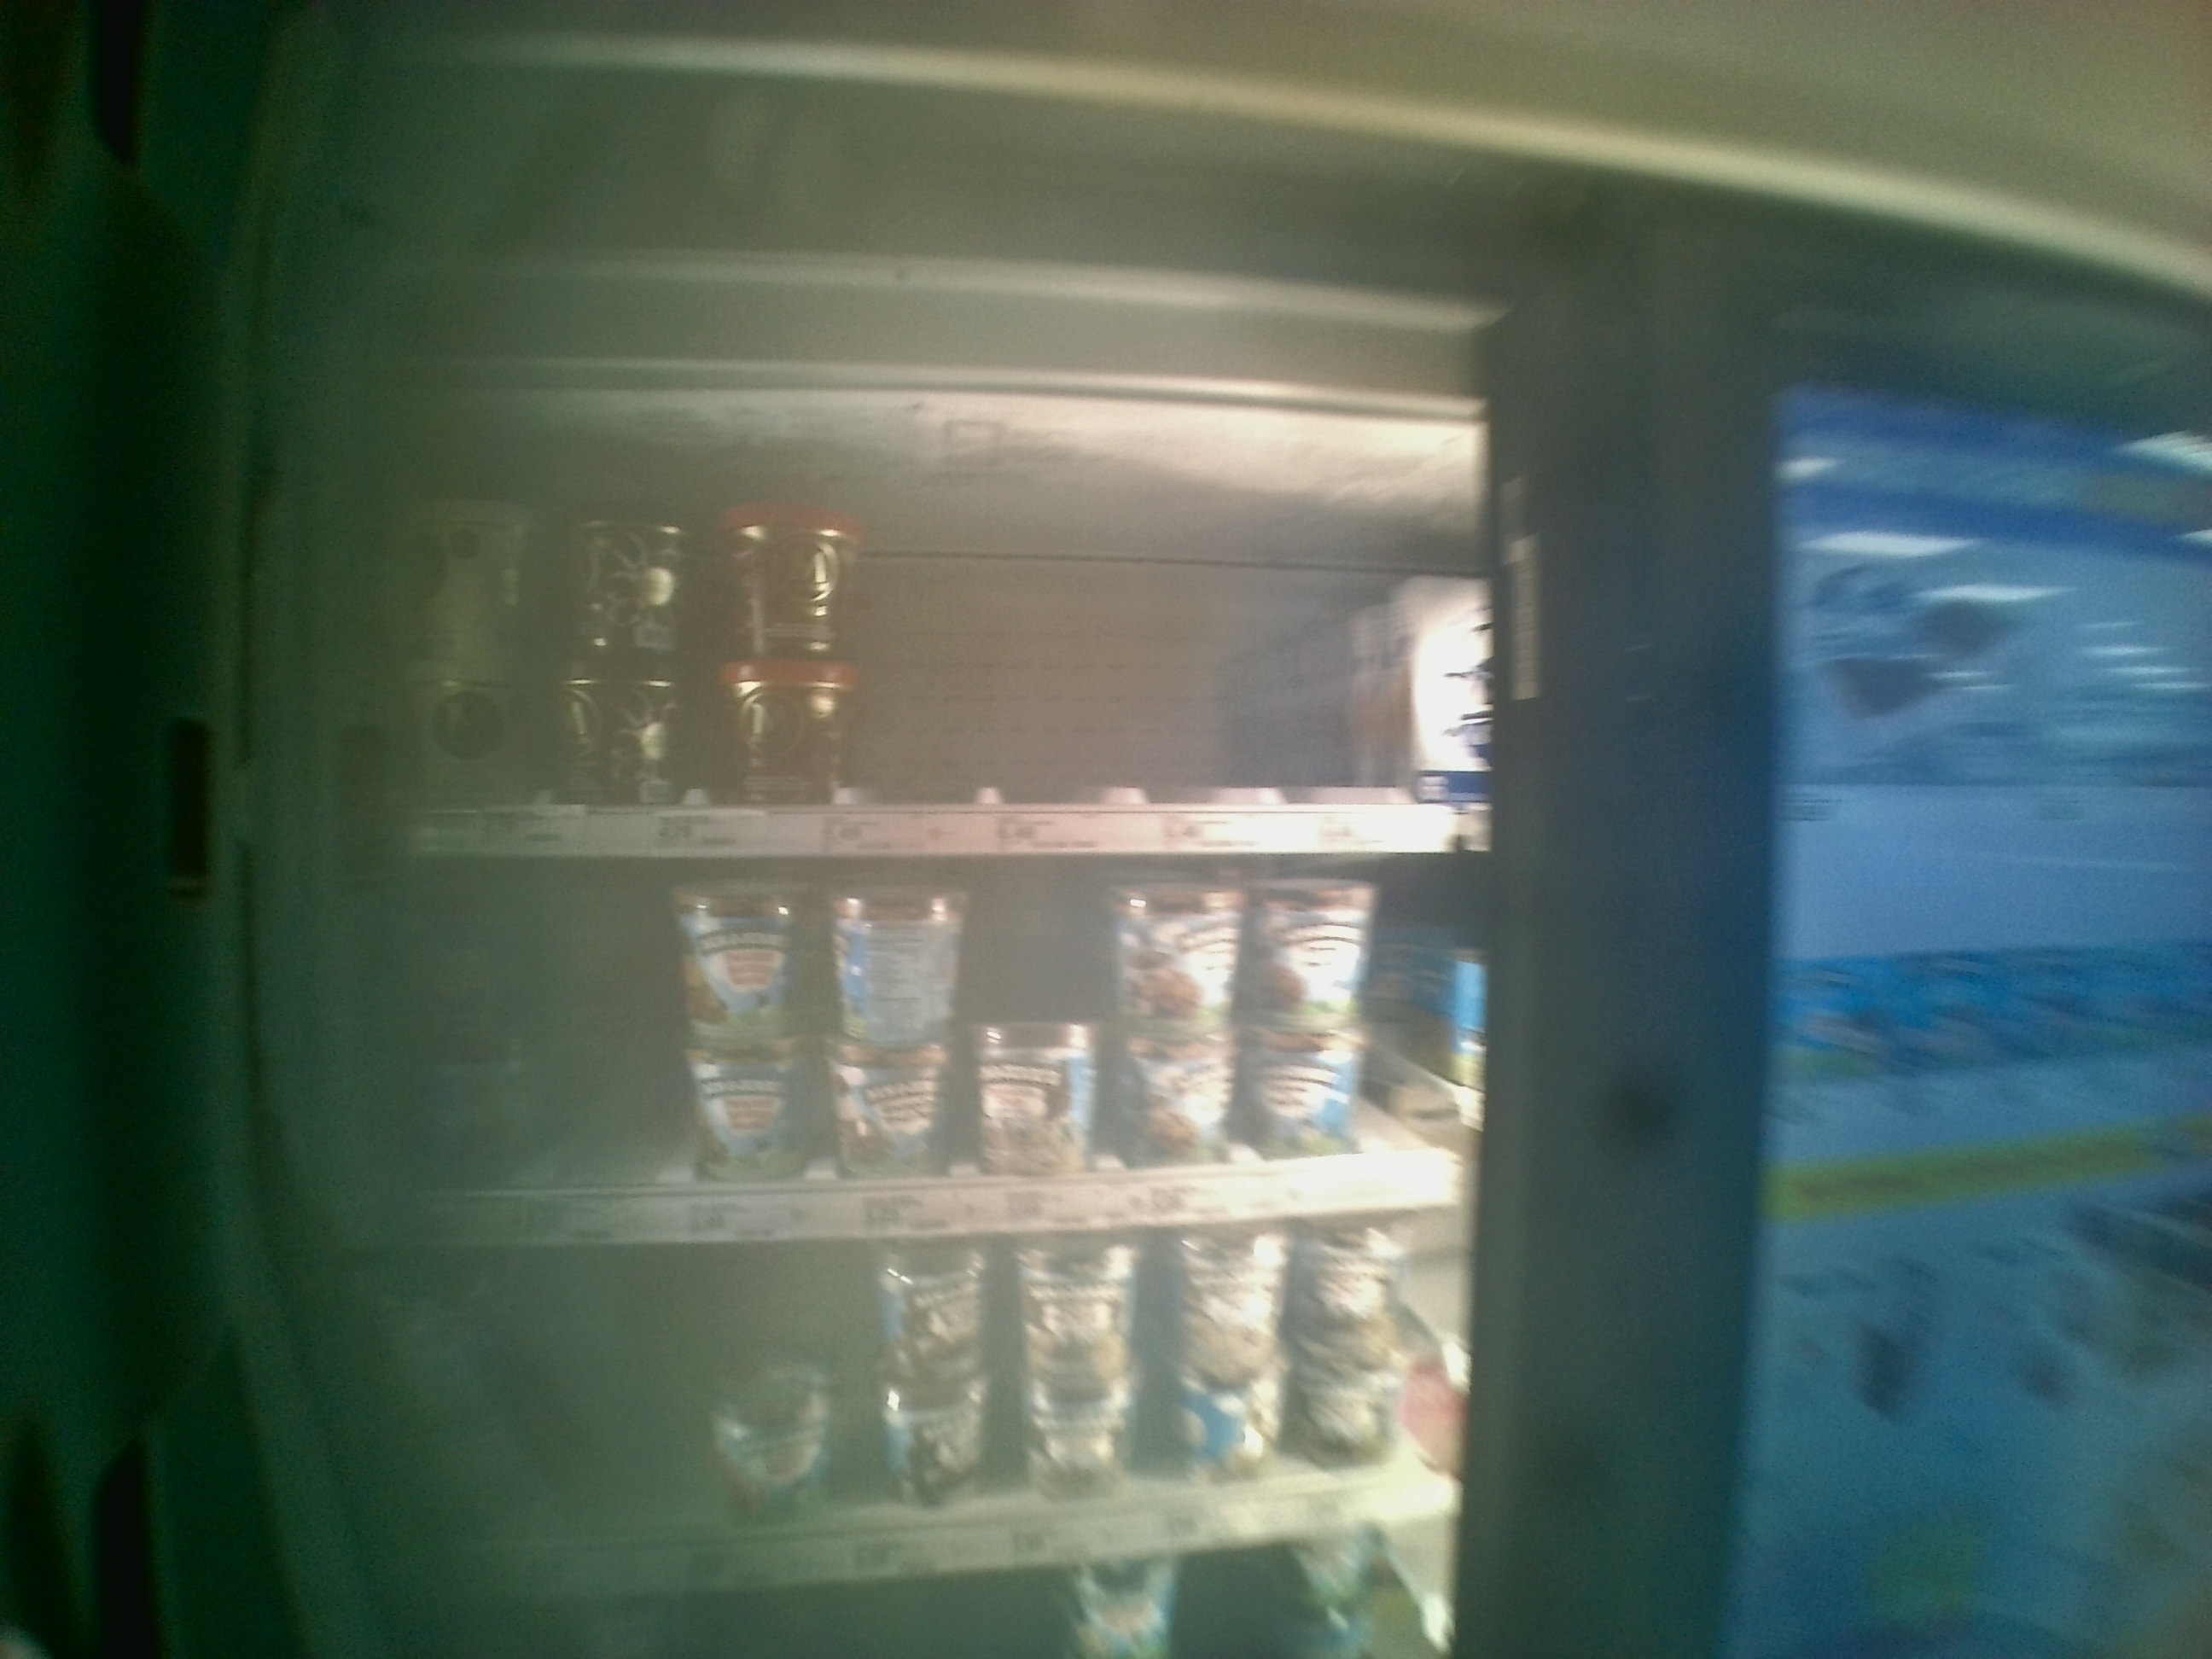shelf: (334, 364, 1505, 854), (329, 857, 1501, 1253)
